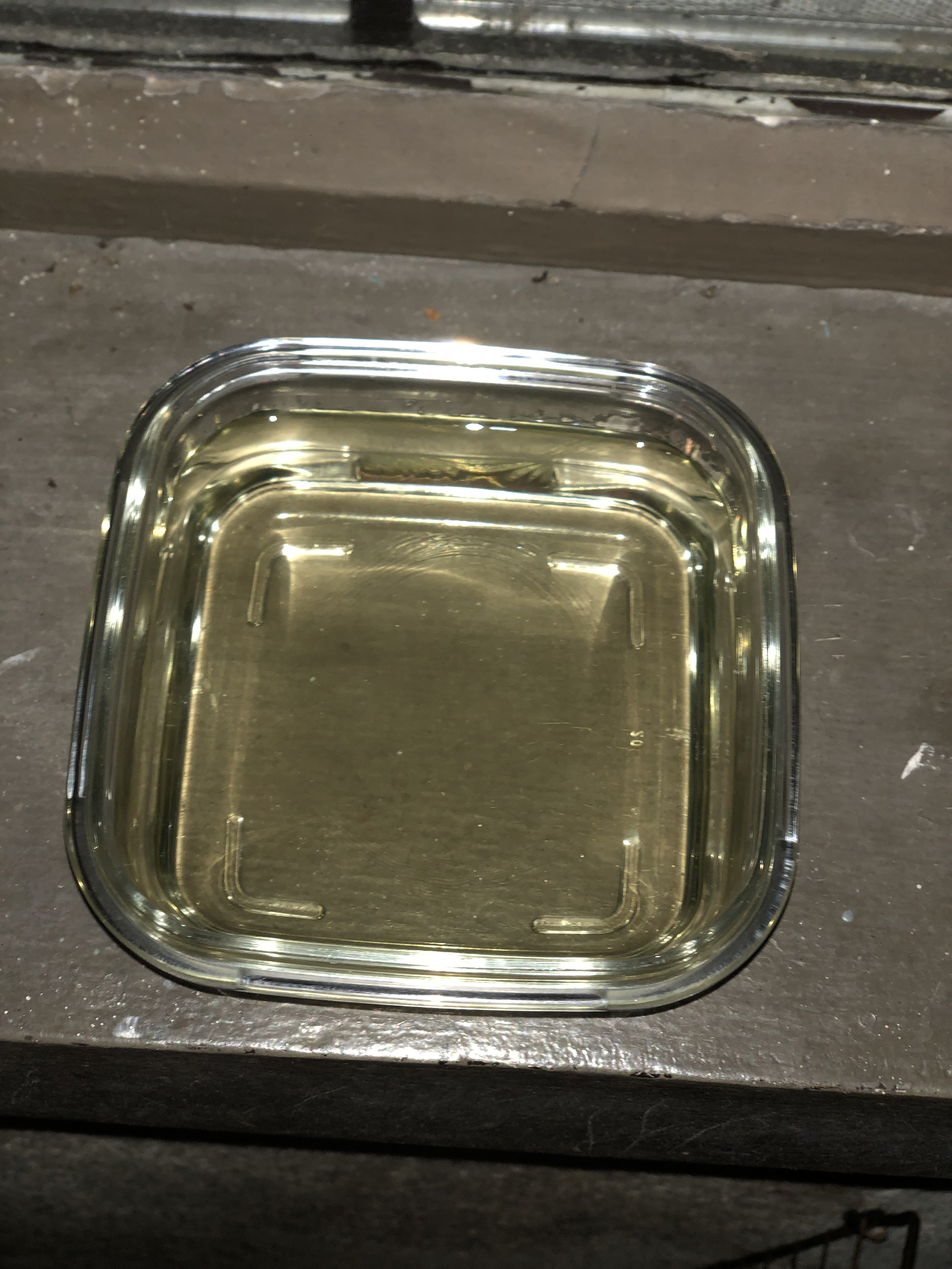reusable: (123, 403, 746, 954)
